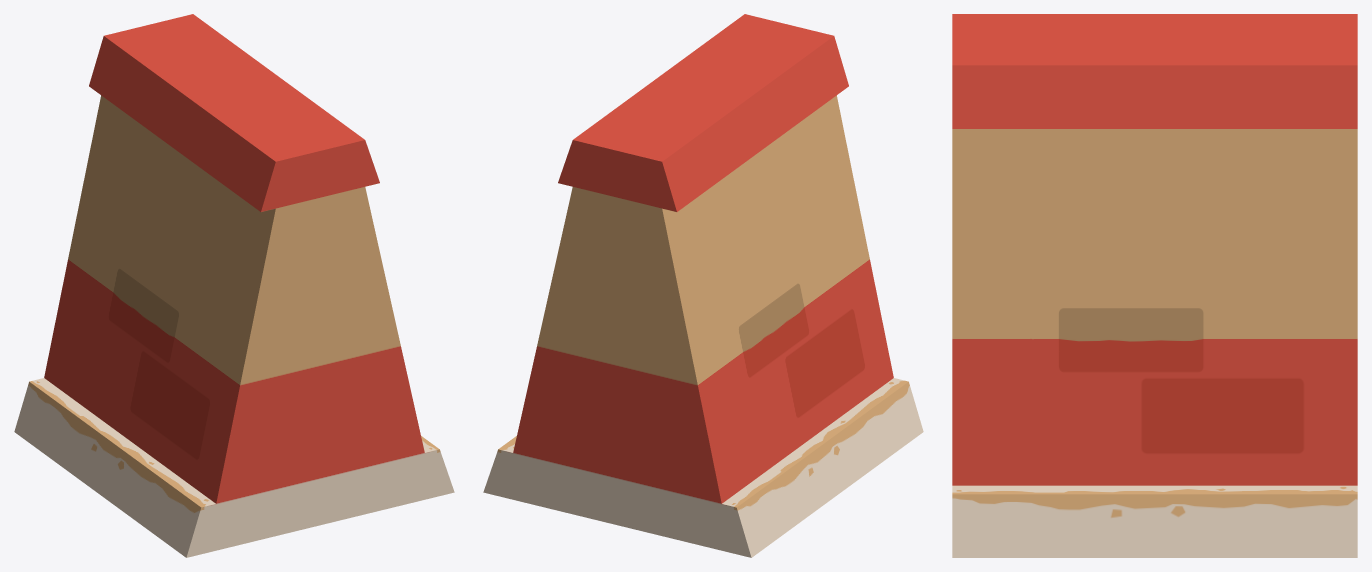
The model's file is lowWallFull.fbx.
3 views of the same model, side by side, from view 1: azimuth 30°, elevation 25°; view 2: azimuth 150°, elevation 25°; view 3: azimuth 270°, elevation 25° (orthographic). The views are drawn at different scales.
Parts seen in each view (by area): view 1: LowWall; view 2: LowWall; view 3: LowWall.
Boxes of the visible parts, x1=… form: LowWall: x1=14, y1=14, x2=454, y2=557; LowWall: x1=483, y1=14, x2=923, y2=557; LowWall: x1=952, y1=14, x2=1357, y2=557.
Bounding box in the file's own units: 1.8 × 2.4 × 2.
